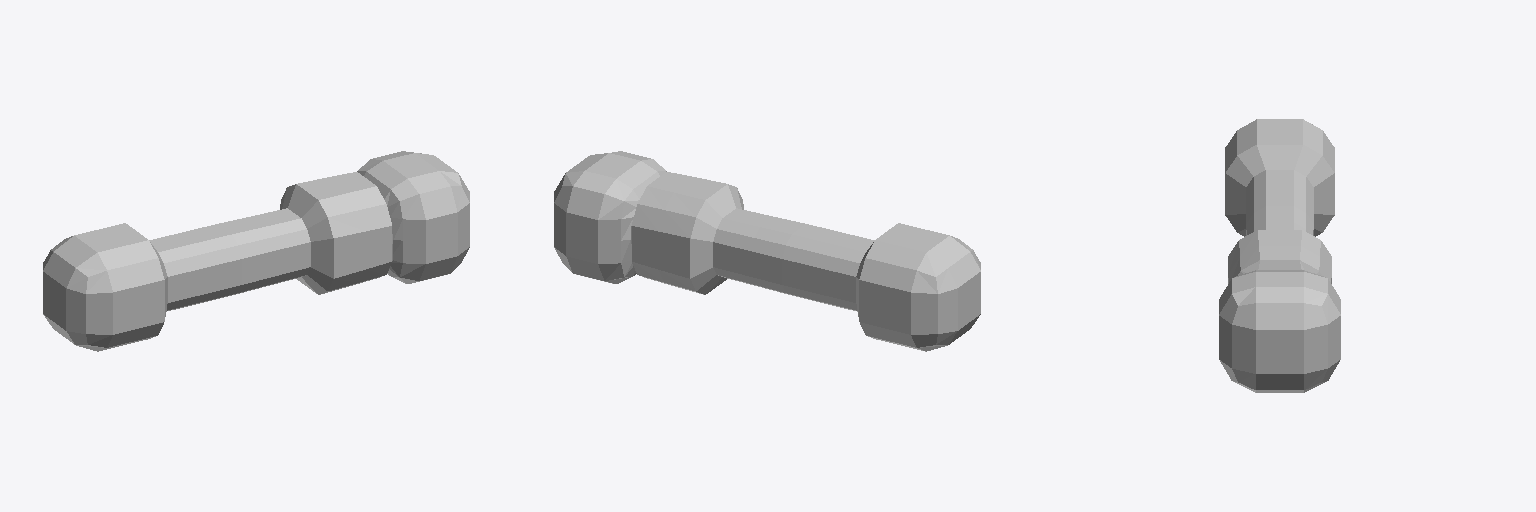
Rendered from Dummy_Base_Dummy_Body_Dummy_ArmLeft.obj.
3 views of the same model, side by side, from view 1: azimuth 30°, elevation 25°; view 2: azimuth 150°, elevation 25°; view 3: azimuth 270°, elevation 25° (orthographic).
Visible parts, largest first — view 1: Dummy_ArmLeft_Cube.16119; view 2: Dummy_ArmLeft_Cube.16119; view 3: Dummy_ArmLeft_Cube.16119.
Boxes of the visible parts, x1,y1,x2,y2 form: Dummy_ArmLeft_Cube.16119: [43, 151, 469, 351]; Dummy_ArmLeft_Cube.16119: [554, 151, 980, 351]; Dummy_ArmLeft_Cube.16119: [1219, 119, 1340, 392].
Bounding box in the file's own units: 0.8824 × 0.224 × 0.2323.